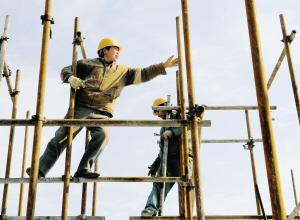helmet: (96, 33, 124, 66), (150, 94, 177, 121)
